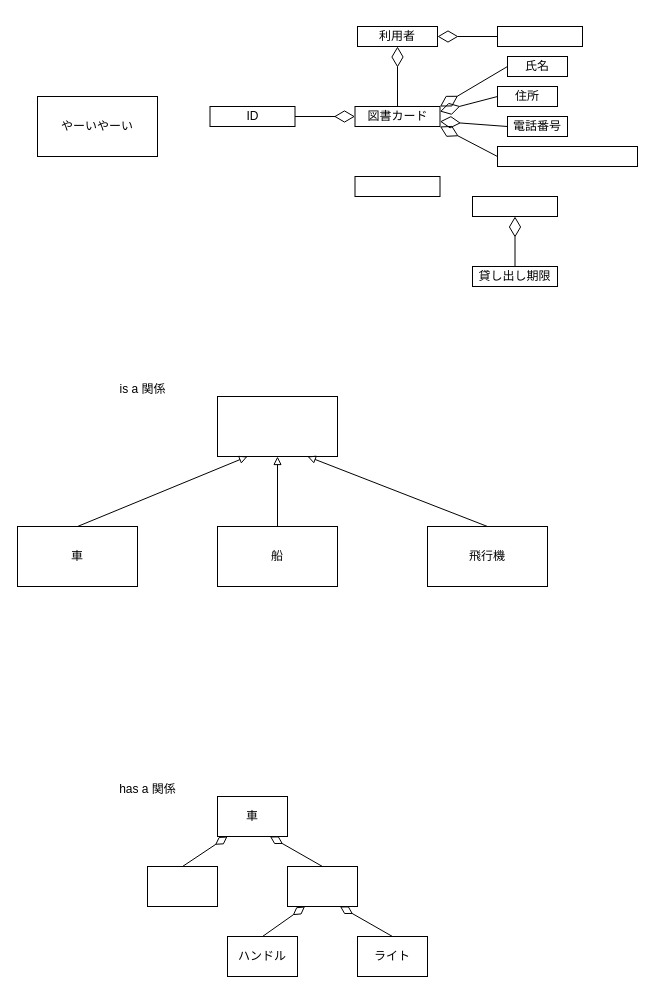
Image size: 655x994. Some labels were removed from this diagram. Each missing label, with the box of its shape:
エンジン: (146, 866, 218, 906)
ボディ: (286, 866, 358, 906)
乗り物: (216, 396, 338, 456)
図書: (496, 26, 582, 46)
貸し出し: (354, 176, 440, 196)
貸し出し予約: (472, 196, 558, 216)
電子メール・アドレス: (496, 146, 638, 166)
